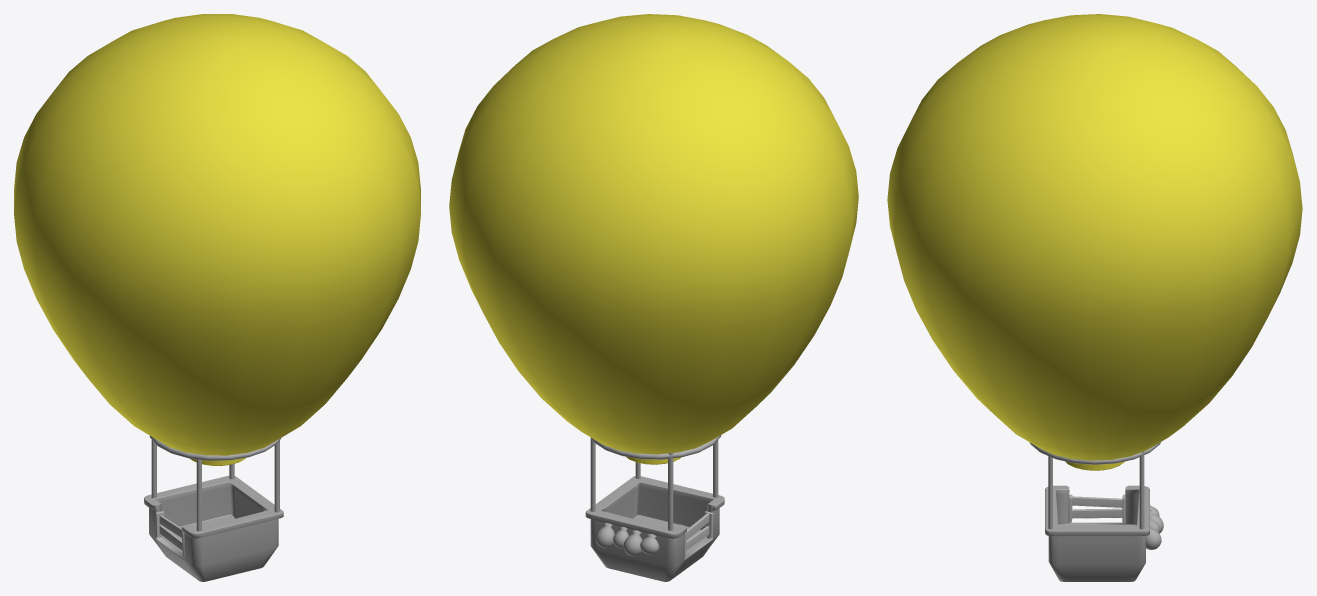
Rendered from Air Balloon.fbx.
The picture shows the model from 3 angles, left to right: view 1: azimuth 30°, elevation 25°; view 2: azimuth 150°, elevation 25°; view 3: azimuth 270°, elevation 25°; orthographic projection.
Visible parts, largest first — view 1: Balloon_body, Balloon_Fence; view 2: Balloon_body, Balloon_Fence; view 3: Balloon_body, Balloon_Fence.
Part boxes in pixels (x1,y1,x2,y2): Balloon_body: [14, 14, 420, 581]; Balloon_Fence: [155, 511, 184, 556]; Balloon_body: [449, 14, 858, 581]; Balloon_Fence: [684, 511, 713, 556]; Balloon_body: [887, 14, 1302, 581]; Balloon_Fence: [1068, 494, 1125, 522].
Size of the model in its own units: 655 by 926 by 655.
